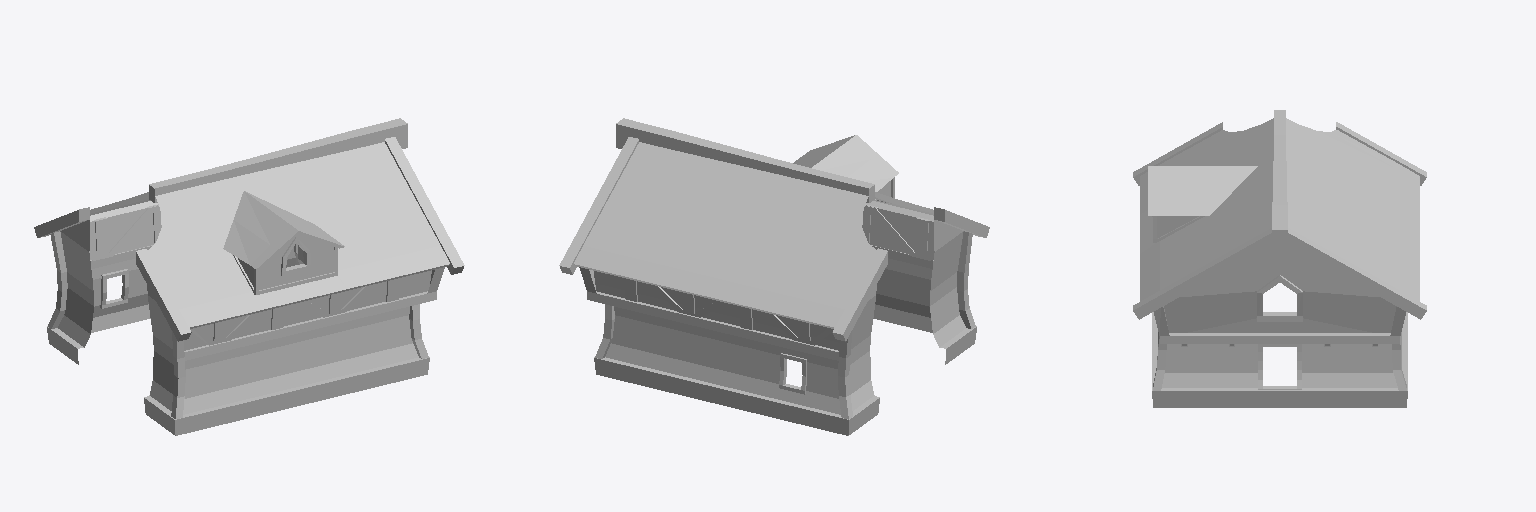
File: HouseOutside_LP.obj
3 views of the same model, side by side, from view 1: azimuth 30°, elevation 25°; view 2: azimuth 150°, elevation 25°; view 3: azimuth 270°, elevation 25° (orthographic).
Visible parts, largest first — view 1: outside_low, beams_low; view 2: outside_low, beams_low; view 3: outside_low, beams_low.
Boxes of the visible parts, x1=… form: outside_low: x1=47, y1=142, x2=449, y2=435; beams_low: x1=34, y1=118, x2=464, y2=418; outside_low: x1=574, y1=135, x2=976, y2=435; beams_low: x1=559, y1=118, x2=989, y2=419; outside_low: x1=1140, y1=118, x2=1419, y2=407; beams_low: x1=1133, y1=110, x2=1426, y2=390.
Size of the model in its own units: 21.03 by 13.37 by 18.05.